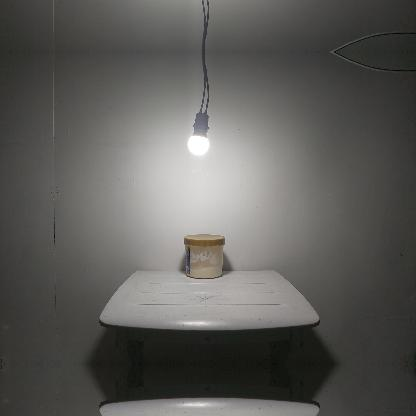Lady-s-Choice: (183, 234, 225, 278)
